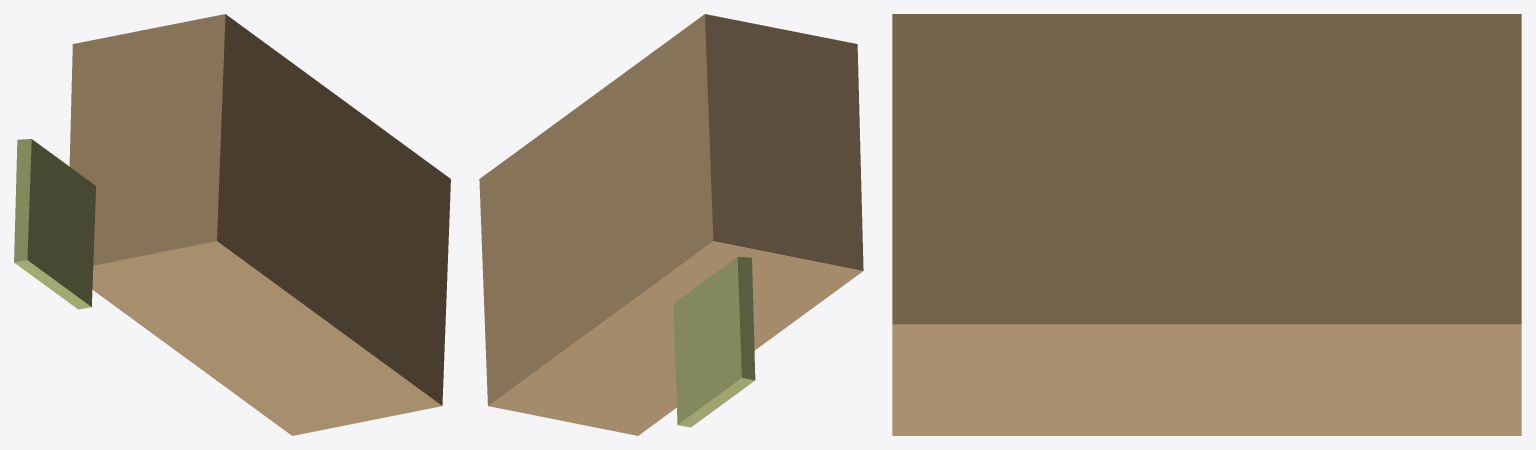
3 views of the same model, side by side, from view 1: azimuth 30°, elevation 25°; view 2: azimuth 150°, elevation 25°; view 3: azimuth 270°, elevation 25° (orthographic). The views are drawn at different scales.
Parts seen in each view (by area): view 1: 0_2_1_3_0_0_3_1_2_3; view 2: 0_2_1_3_0_0_3_1_2_3; view 3: 0_2_1_3_0_0_3_1_2_3.
Part boxes in pixels (left/top/right/bottom): 0_2_1_3_0_0_3_1_2_3: left=14, top=14, right=450, bottom=435; 0_2_1_3_0_0_3_1_2_3: left=479, top=14, right=863, bottom=435; 0_2_1_3_0_0_3_1_2_3: left=892, top=14, right=1521, bottom=435.
Bounding box in the file's own units: 11.37 × 11.93 × 21.
